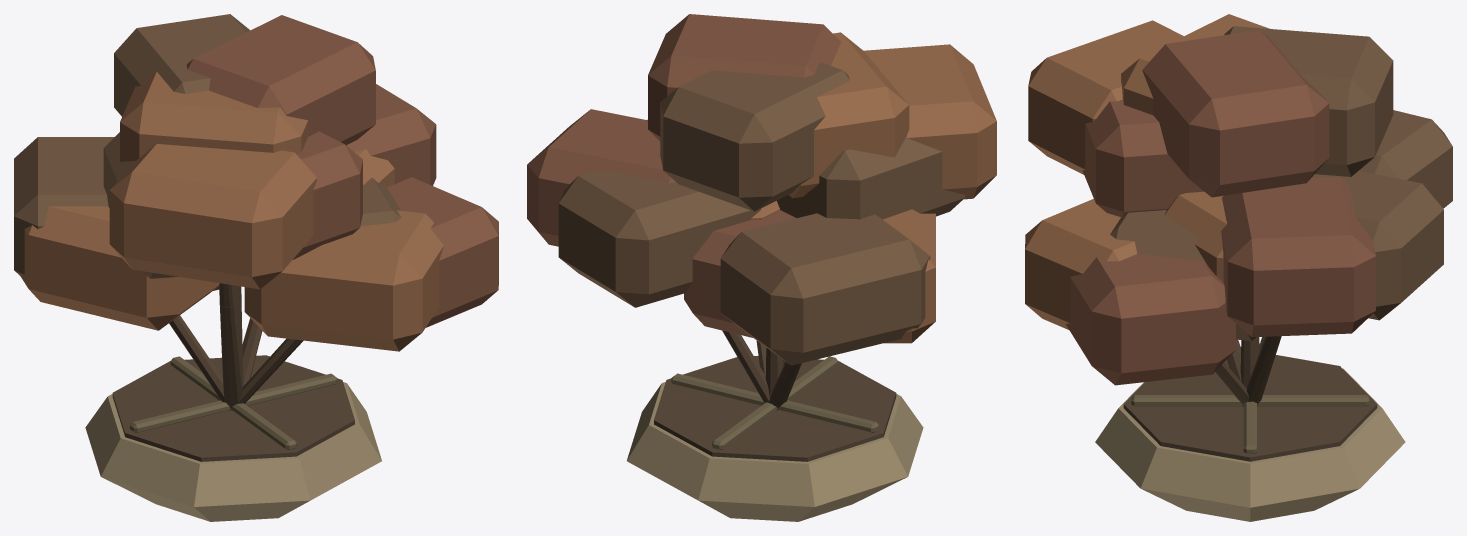
Rendered from blueberry_packed_autumn.glb.
3 views of the same model, side by side, from view 1: azimuth 30°, elevation 25°; view 2: azimuth 150°, elevation 25°; view 3: azimuth 270°, elevation 25° (orthographic).
Visible parts, largest first — view 1: blueberry_packed_autumn; view 2: blueberry_packed_autumn; view 3: blueberry_packed_autumn.
Boxes of the visible parts, left/top/right/bottom form: blueberry_packed_autumn: left=14, top=14, right=498, bottom=521; blueberry_packed_autumn: left=527, top=14, right=996, bottom=521; blueberry_packed_autumn: left=1025, top=14, right=1452, bottom=521.
Size of the model in its own units: 1.75 by 1.86 by 1.65.
